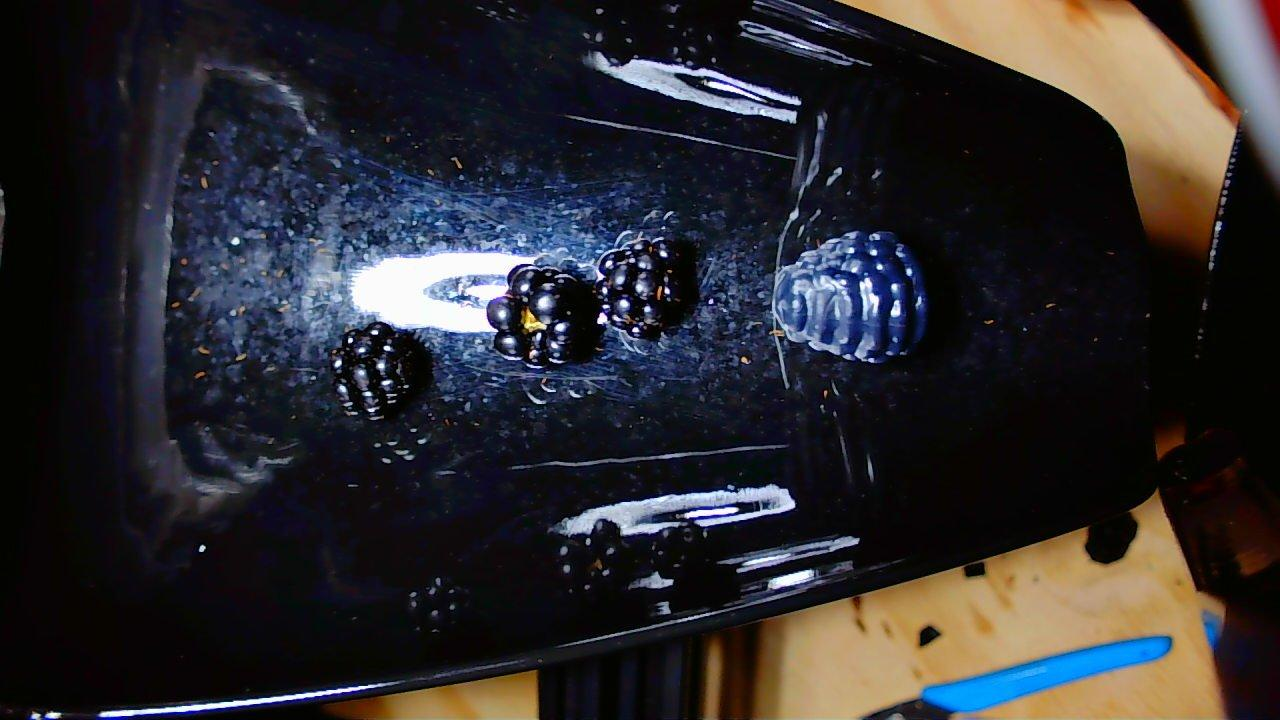berry: (773, 231, 928, 363), (487, 266, 600, 367), (595, 237, 694, 337), (330, 321, 428, 418)
